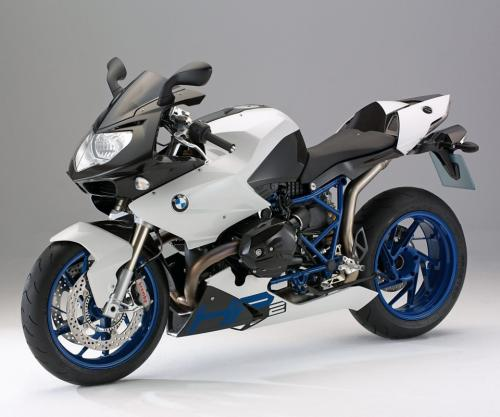motor: (26, 49, 470, 383)
